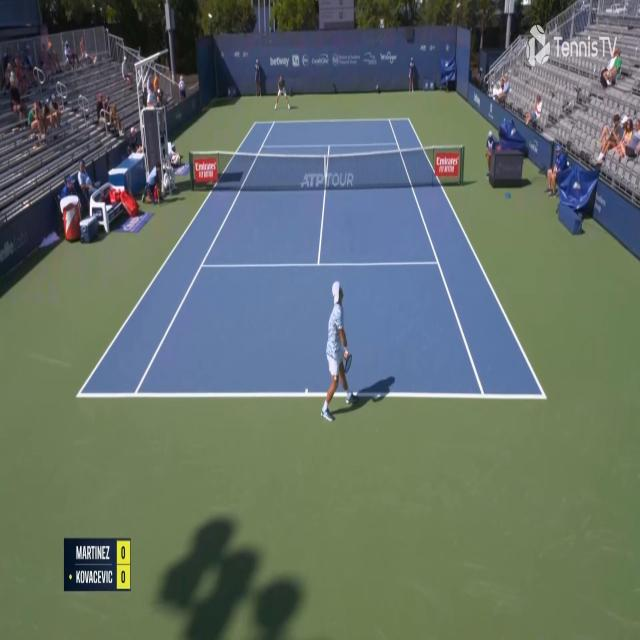tennis-player: (318, 278, 359, 425), (273, 75, 292, 112)
